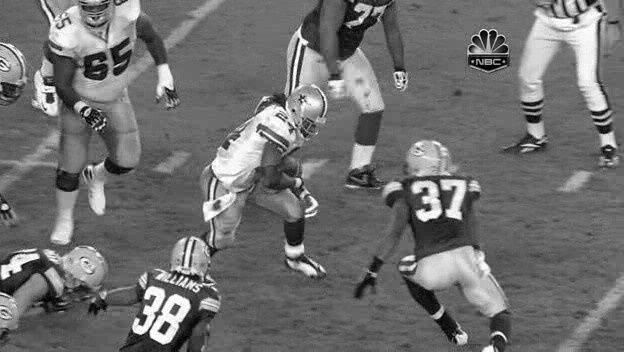person: (289, 82, 324, 137), (288, 82, 323, 137), (290, 82, 325, 137), (289, 81, 324, 136), (289, 83, 324, 138)
target_negative: (222, 232, 380, 349), (399, 69, 435, 257), (464, 160, 505, 250), (443, 171, 504, 217), (523, 116, 606, 140), (261, 338, 324, 344)
